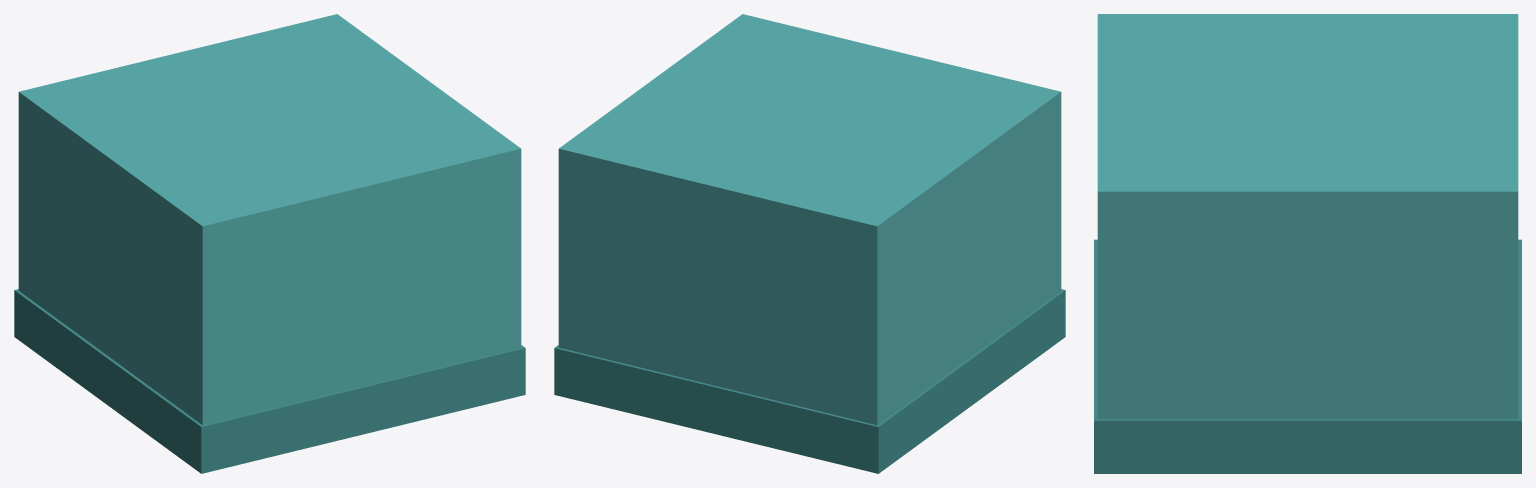
Rendered from surfista_manga_inf.glb.
3 views of the same model, side by side, from view 1: azimuth 30°, elevation 25°; view 2: azimuth 150°, elevation 25°; view 3: azimuth 270°, elevation 25° (orthographic). The views are drawn at different scales.
Parts seen in each view (by area): view 1: surfista_manga_inf; view 2: surfista_manga_inf; view 3: surfista_manga_inf.
Boxes of the visible parts, <box> form: surfista_manga_inf: <box>14,14,525,473</box>; surfista_manga_inf: <box>554,14,1065,473</box>; surfista_manga_inf: <box>1094,14,1521,473</box>.
Bounding box in the file's own units: 0.29 × 0.21 × 0.29.
